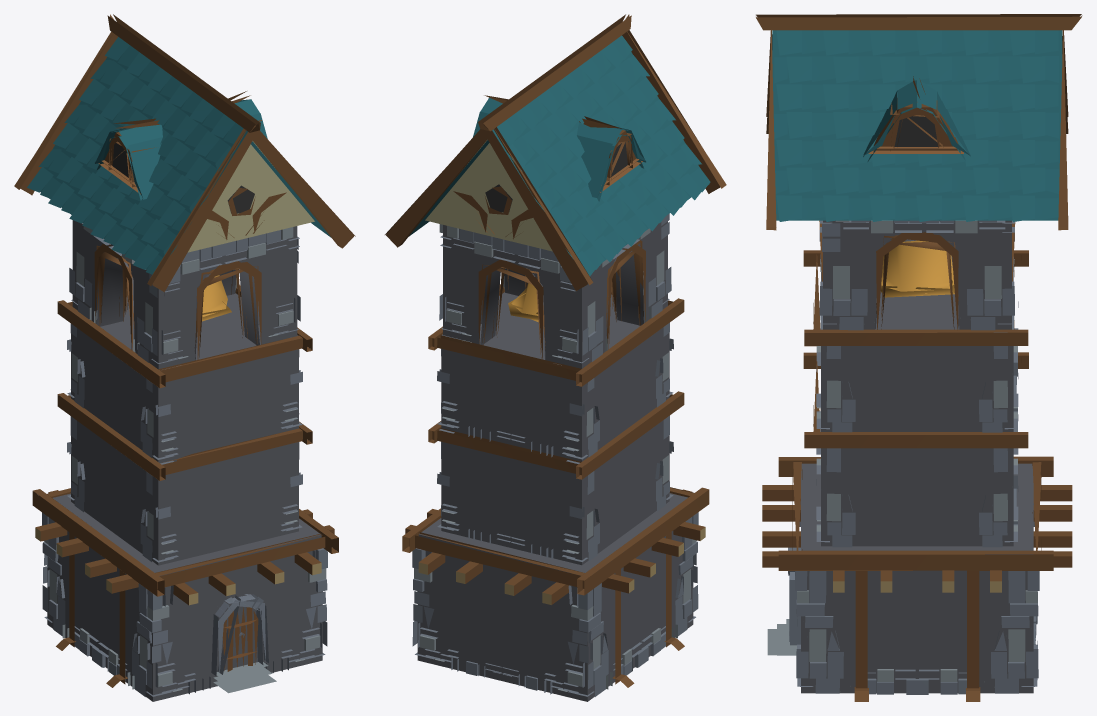
File: bld-study.glb
3 views of the same model, side by side, from view 1: azimuth 30°, elevation 25°; view 2: azimuth 150°, elevation 25°; view 3: azimuth 270°, elevation 25° (orthographic). The views are drawn at different scales.
Visible parts, largest first — view 1: Bell_Tower; view 2: Bell_Tower; view 3: Bell_Tower.
Part boxes in pixels (x1,y1,x2,y2): Bell_Tower: [14, 14, 355, 701]; Bell_Tower: [385, 14, 726, 701]; Bell_Tower: [756, 14, 1082, 701].
Bounding box in the file's own units: 1.94 × 4.76 × 2.23.
